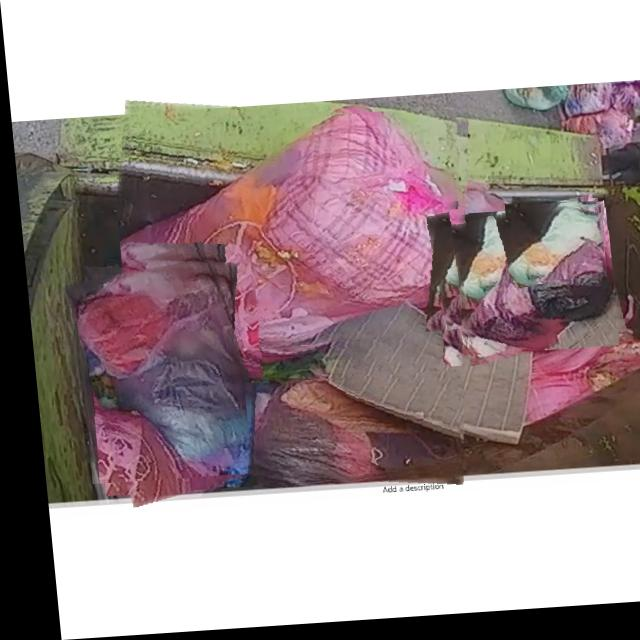other_trashbag: (116, 118, 456, 356), (71, 262, 260, 477), (460, 211, 608, 357), (241, 383, 452, 483), (501, 214, 598, 288)
